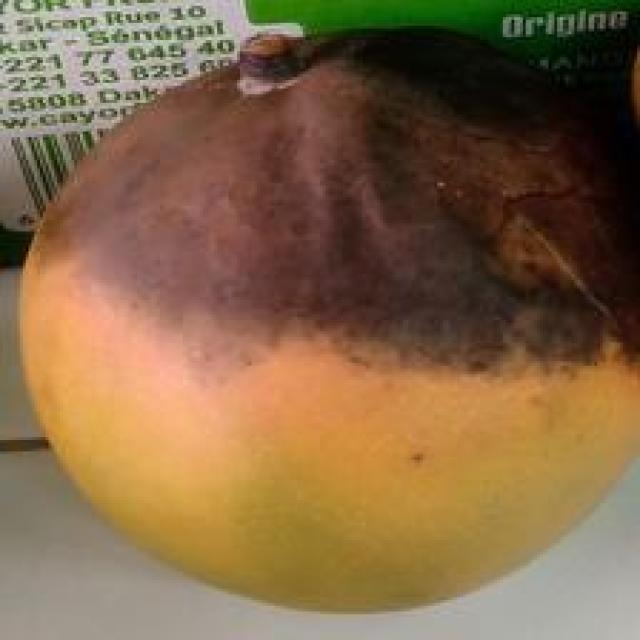Bad_Mango: (22, 35, 640, 608)
